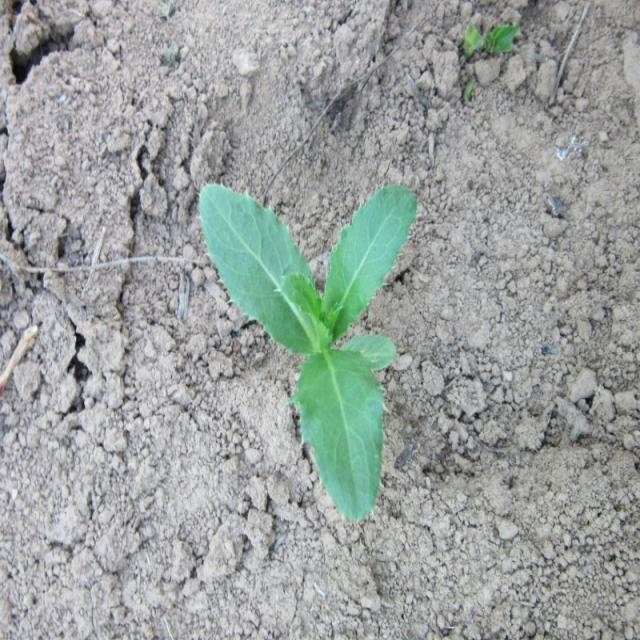cs: (198, 178, 418, 527)
